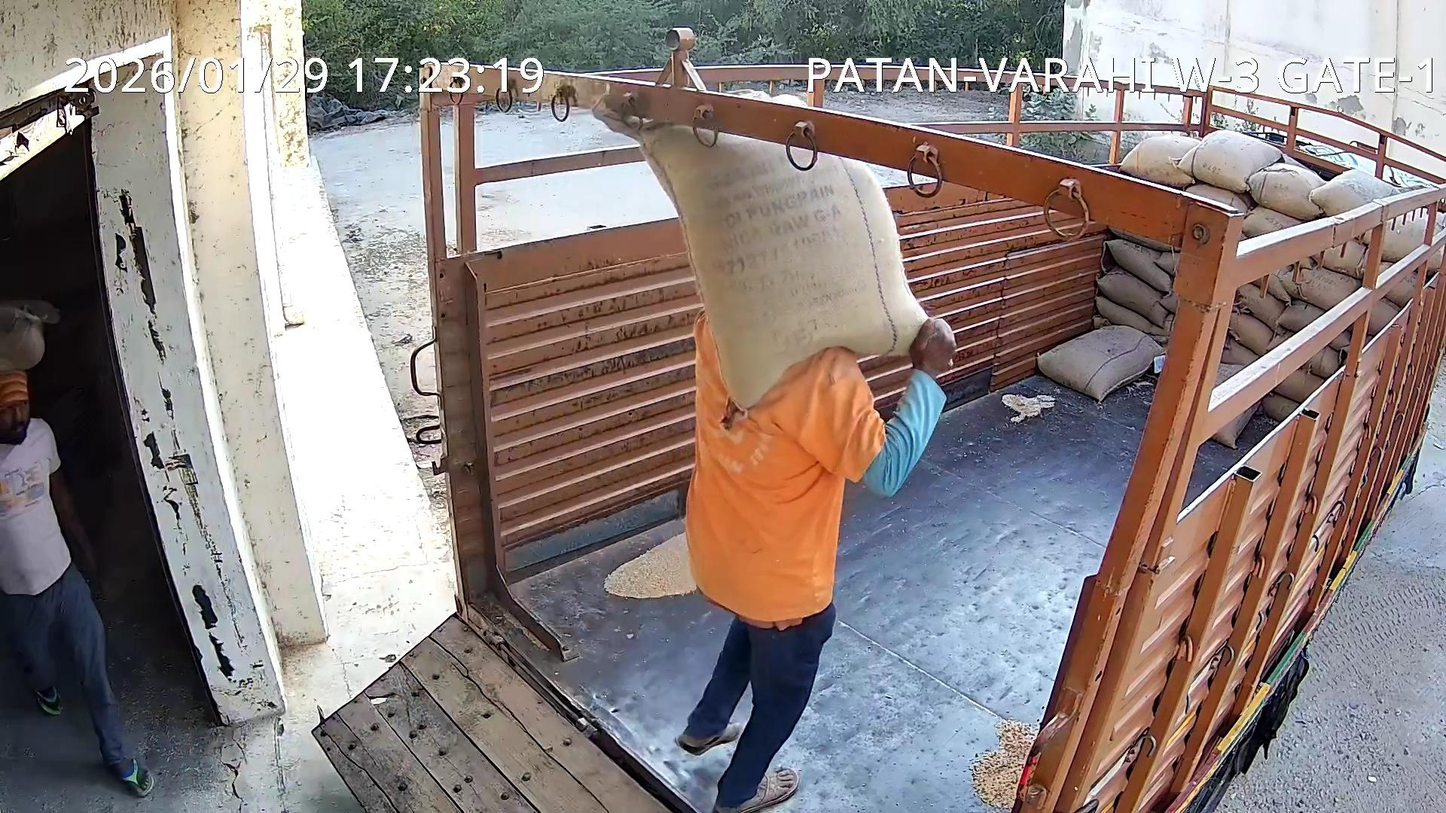Sack: (633, 120, 925, 408)
